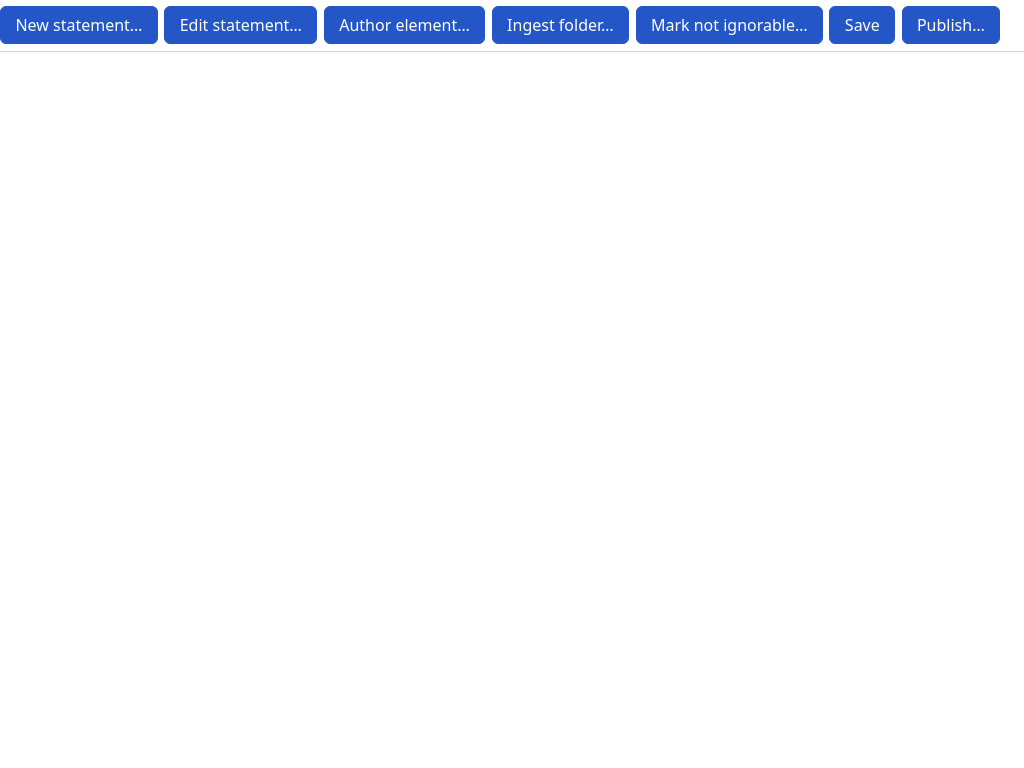
publish_dialog › default_version_is_the_next_minor
This screenshot has width=1024, height=768.
Click the button "Publish…".
click(951, 25)  # box [902, 6, 1000, 44]
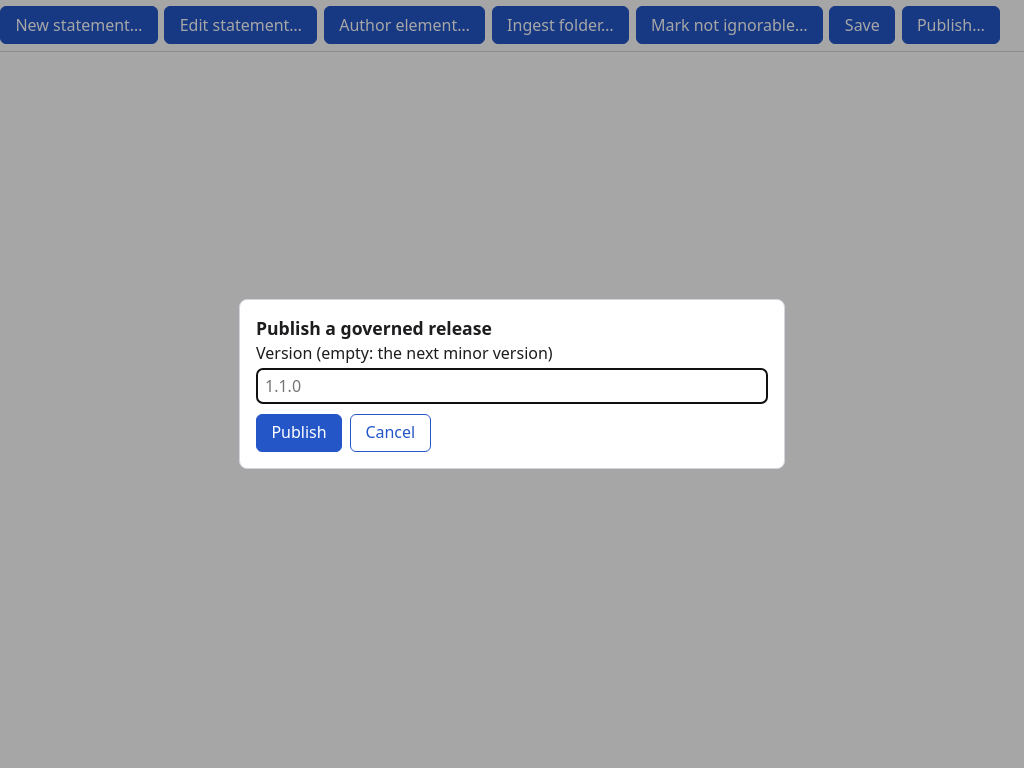
Check: the field labelled "Version (empty: the next minor version)" is empty, box [256, 368, 768, 404]
Click the button "Publish".
click(299, 433)  # box [256, 414, 342, 452]
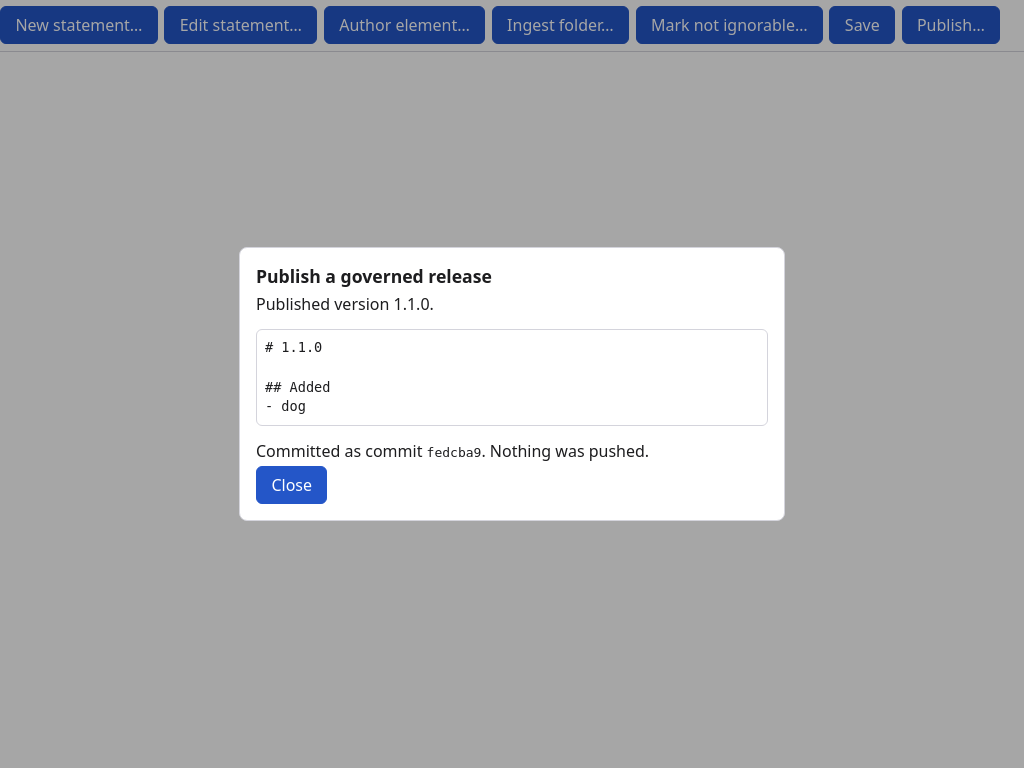
Check: the text "Published version 1.1.0." is shown, box [256, 293, 434, 315]
Check: the text "# 1.1.0 ## Added - dog" is shown, box [256, 329, 768, 426]
Check: the dialog shows "fedcba9", box [427, 445, 481, 460]
